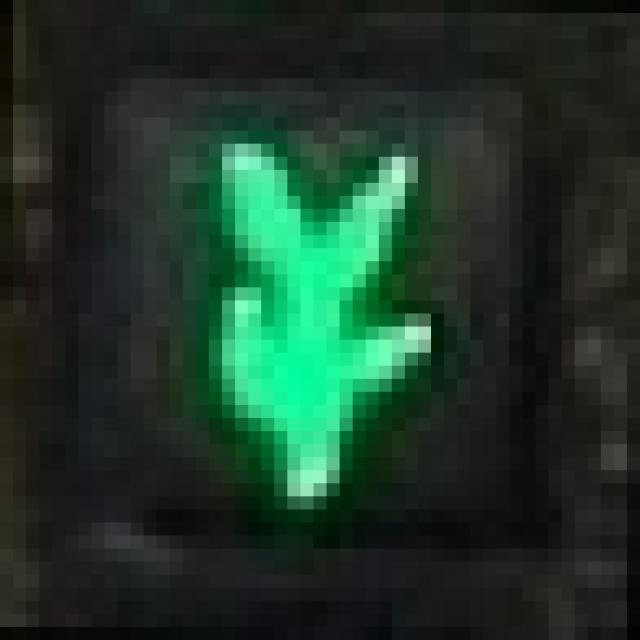geen-crossing: (118, 78, 484, 510)
